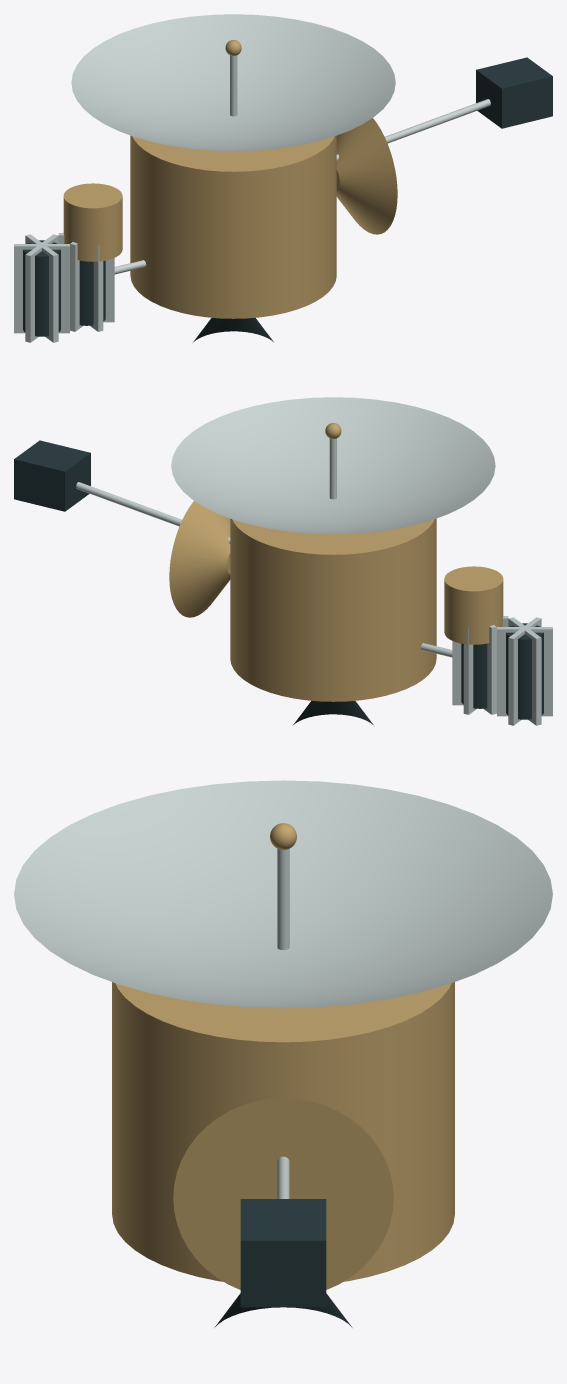
The model's file is galileo.glb.
The picture shows the model from 3 angles, top to bottom: view 1: azimuth 30°, elevation 25°; view 2: azimuth 150°, elevation 25°; view 3: azimuth 270°, elevation 25°; orthographic projection. The views are drawn at different scales.
Parts seen in each view (by area): view 1: antenna, body, instruments, service, payload, propulsion; view 2: antenna, body, instruments, service, payload, propulsion; view 3: antenna, body, payload, instruments, propulsion.
Boxes of the visible parts, bbox=[...] form: antenna: bbox=[71, 14, 395, 151]; body: bbox=[130, 135, 336, 318]; instruments: bbox=[63, 57, 552, 261]; service: bbox=[14, 233, 146, 342]; payload: bbox=[336, 118, 397, 234]; propulsion: bbox=[193, 317, 273, 341]; antenna: bbox=[171, 397, 495, 534]; body: bbox=[230, 518, 436, 701]; instruments: bbox=[14, 440, 503, 644]; service: bbox=[420, 616, 552, 725]; payload: bbox=[169, 501, 230, 617]; propulsion: bbox=[293, 700, 373, 724]; antenna: bbox=[14, 780, 552, 1008]; body: bbox=[112, 982, 454, 1281]; payload: bbox=[173, 1098, 393, 1289]; instruments: bbox=[240, 1156, 326, 1307]; propulsion: bbox=[214, 1293, 352, 1327].
Bounding box in the file's own units: 4.07 × 2.31 × 2.2.
